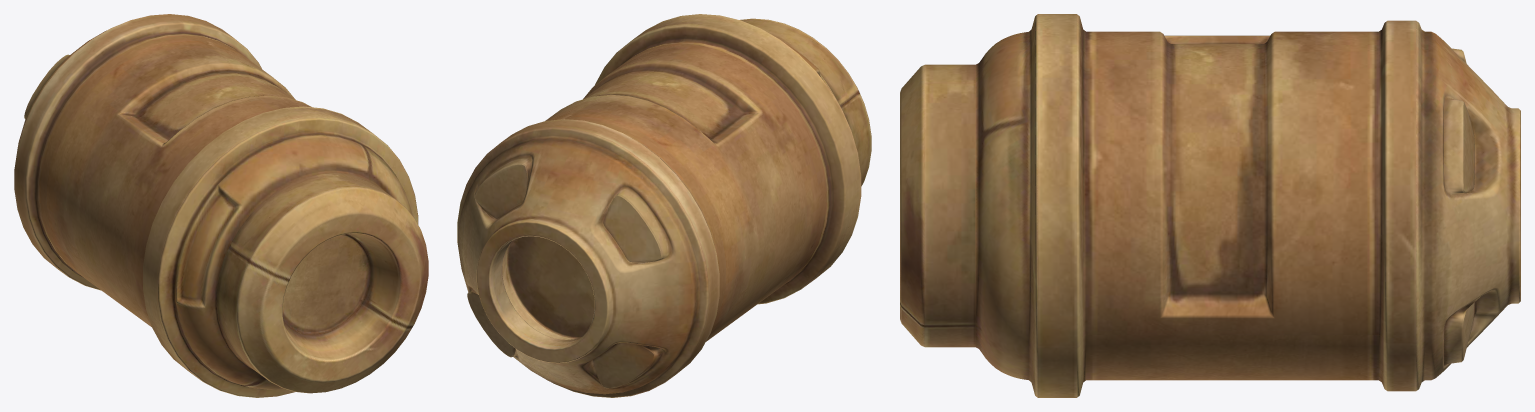
Rendered from Pipe3.fbx.
3 views of the same model, side by side, from view 1: azimuth 30°, elevation 25°; view 2: azimuth 150°, elevation 25°; view 3: azimuth 270°, elevation 25° (orthographic). The views are drawn at different scales.
Visible parts, largest first — view 1: Cube.009; view 2: Cube.009; view 3: Cube.009.
Boxes of the visible parts, x1,y1,x2,y2 form: Cube.009: (14, 14, 428, 397); Cube.009: (457, 14, 871, 397); Cube.009: (900, 14, 1520, 397).
Size of the model in its own units: 644 by 644 by 1043.
